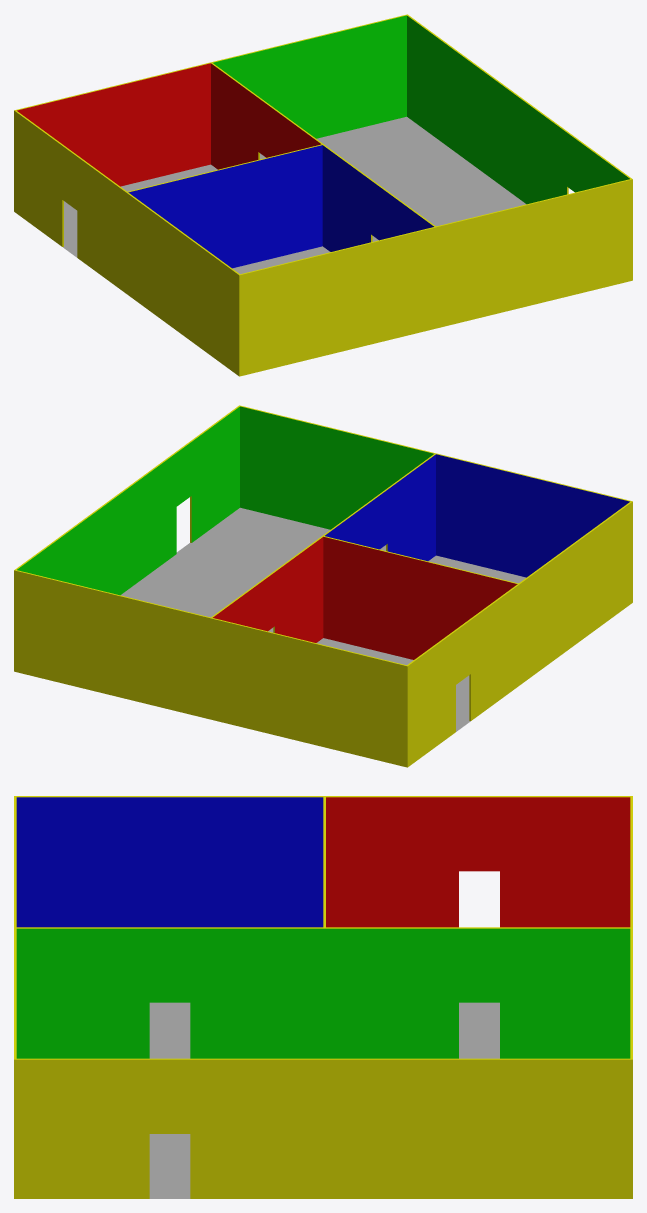
3 views of the same model, one above another, from view 1: azimuth 30°, elevation 25°; view 2: azimuth 150°, elevation 25°; view 3: azimuth 270°, elevation 25° (orthographic). The views are drawn at different scales.
Parts seen in each view (by area): view 1: polySurface23; view 2: polySurface23; view 3: polySurface23.
Part boxes in pixels (x1,y1,x2,y2): polySurface23: (14, 14, 632, 376); polySurface23: (14, 405, 632, 767); polySurface23: (14, 796, 632, 1198).
Size of the model in its own units: 122 by 30 by 121.
